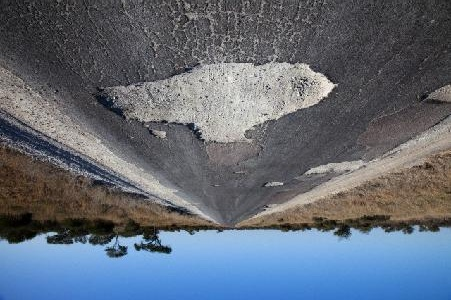pothole: (90, 60, 339, 146), (302, 158, 365, 180), (419, 84, 451, 108), (147, 128, 169, 140), (261, 180, 285, 189)
